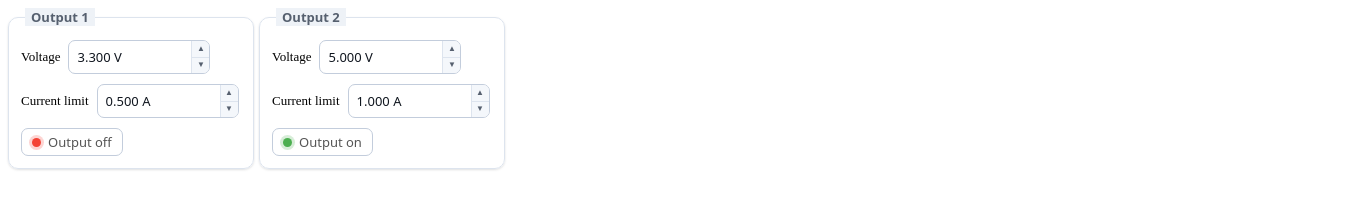
Test case: PsuPanel › reconciles setpoints to server truth after a failed voltage change
Replace the text in the field named "Output 1 voltage" with "12" at (130, 57), box top-left (70, 41), bottom-right (192, 73)
Then press Enter
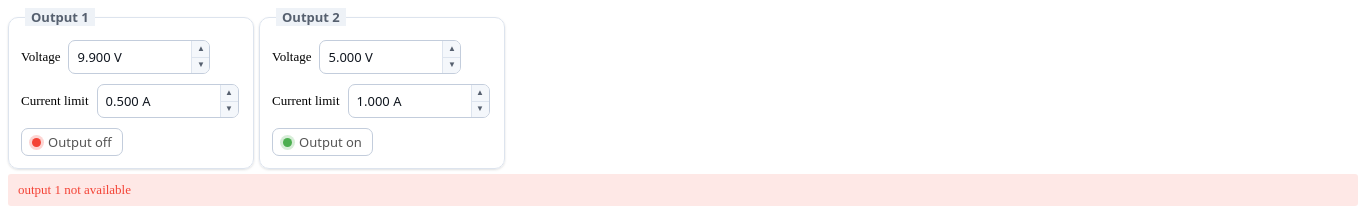
Expected: the message "output 1 not available" is shown, top-left (8, 174), bottom-right (1358, 206)
Expected: the field named "Output 1 voltage" holds "9.900 V", top-left (70, 41), bottom-right (192, 73)
